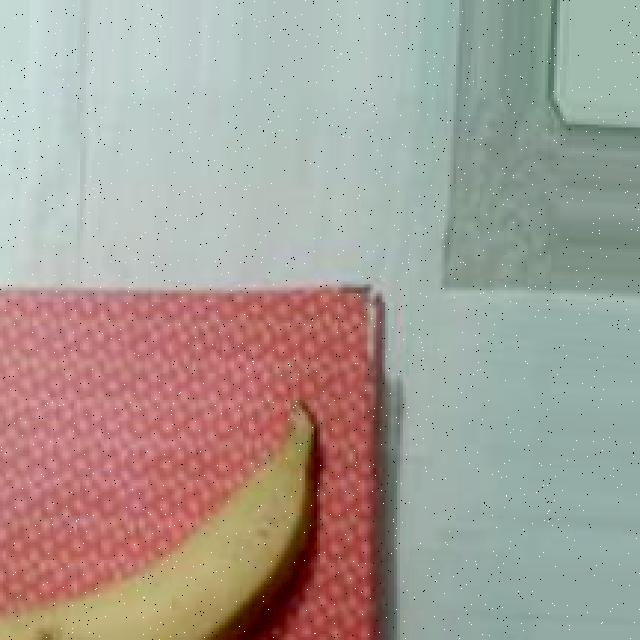banana: (1, 346, 350, 640)
